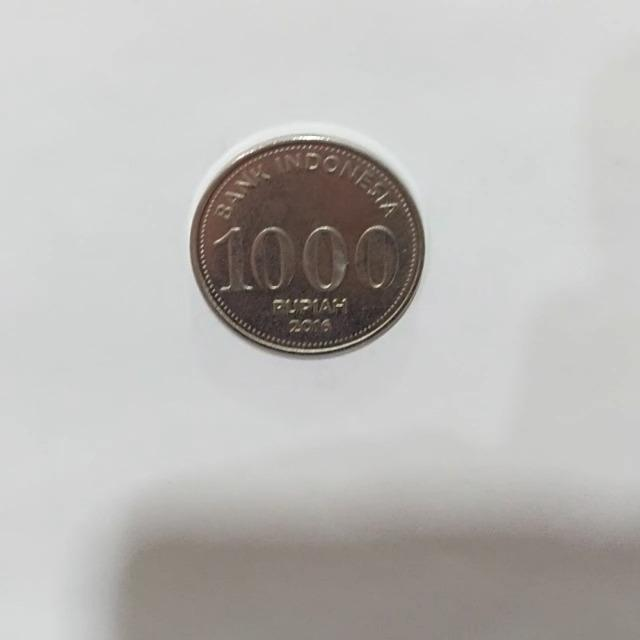Rp100: (186, 125, 426, 358)
